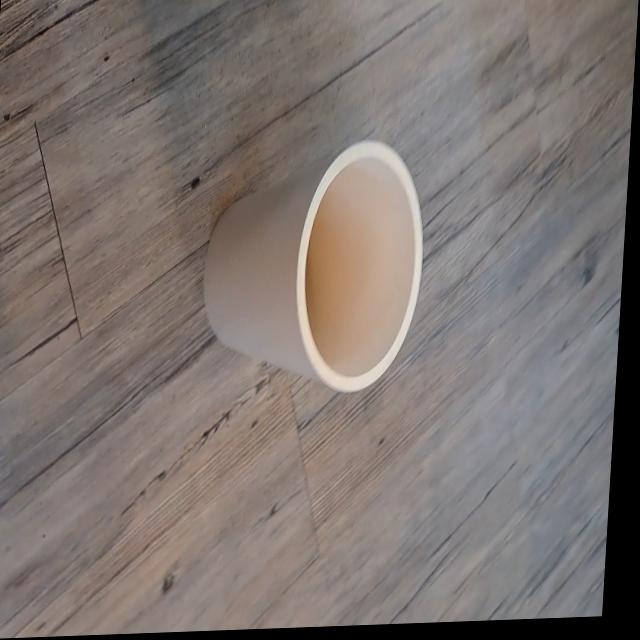CORAL: (168, 102, 454, 444)
